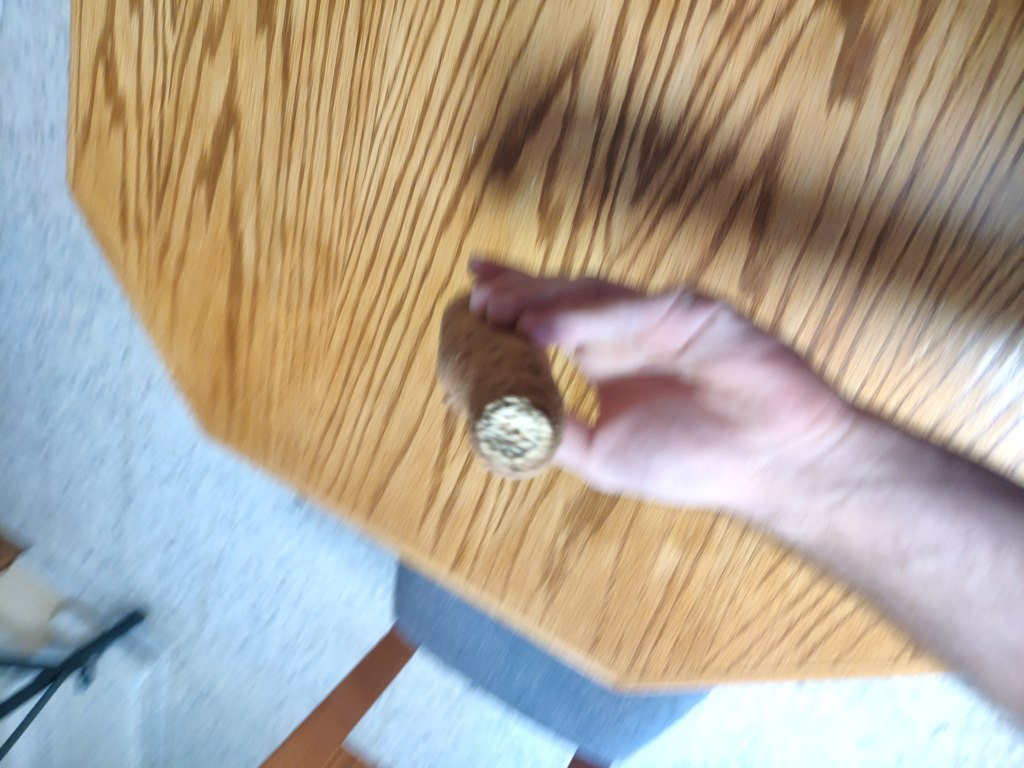Sweet Potato: (432, 284, 593, 500)
